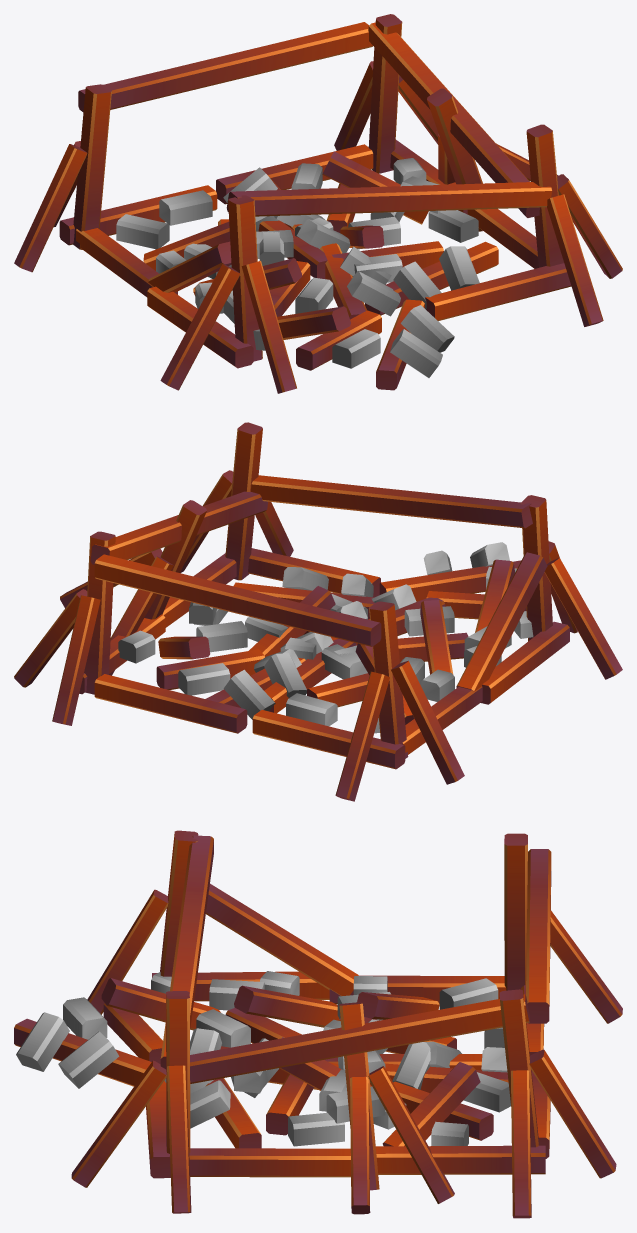
The model's file is Broken_Building_2.fbx.
The picture shows the model from 3 angles, top to bottom: view 1: azimuth 30°, elevation 25°; view 2: azimuth 150°, elevation 25°; view 3: azimuth 270°, elevation 25°; orthographic projection. The views are drawn at different scales.
Visible parts, largest first — view 1: BrokenBuilding; view 2: BrokenBuilding; view 3: BrokenBuilding.
Part boxes in pixels (x1=…): BrokenBuilding: x1=14, y1=14, x2=622, y2=393; BrokenBuilding: x1=14, y1=422, x2=622, y2=801; BrokenBuilding: x1=14, y1=830, x2=622, y2=1218.
Bounding box in the file's own units: 2.57 × 0.8857 × 2.52.
Materials: 1 (1 with a texture image).
